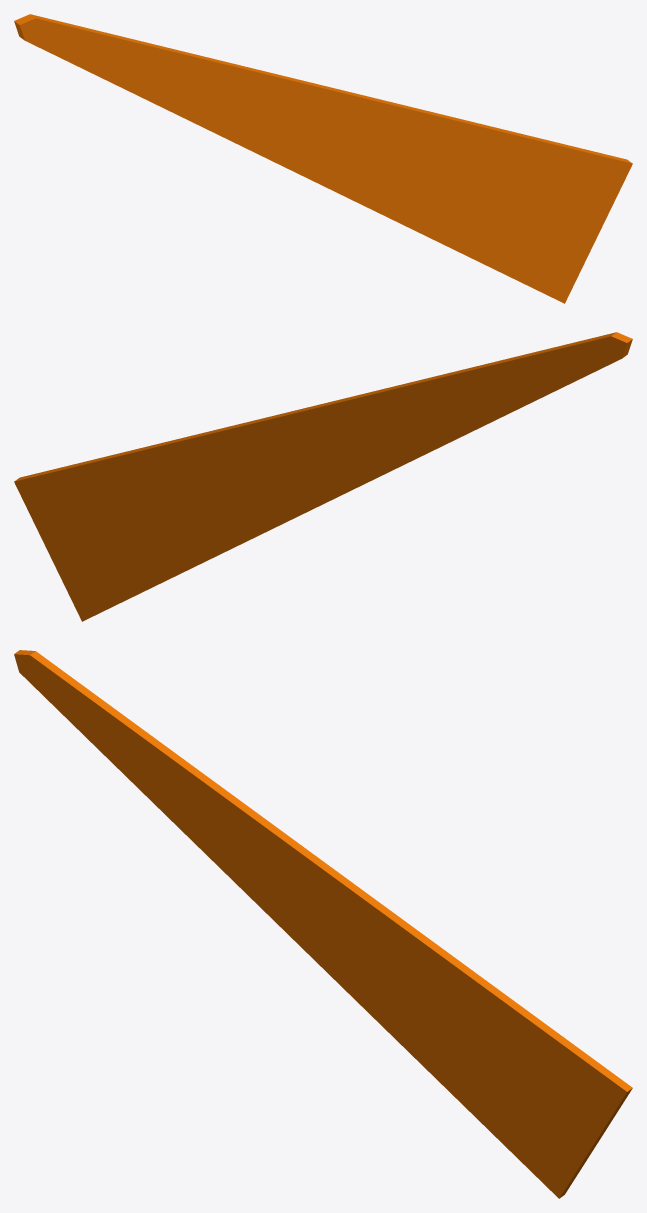
File: anzeigerpfeil.obj
The picture shows the model from 3 angles, top to bottom: view 1: azimuth 30°, elevation 25°; view 2: azimuth 150°, elevation 25°; view 3: azimuth 330°, elevation 25°; orthographic projection.
Parts seen in each view (by area): view 1: anzeigerpfeil; view 2: anzeigerpfeil; view 3: anzeigerpfeil.
Boxes of the visible parts, box(x1,y1,x2,y2) form: anzeigerpfeil: box(14, 14, 632, 303); anzeigerpfeil: box(14, 332, 632, 621); anzeigerpfeil: box(14, 650, 632, 1198).
Size of the model in its own units: 0.1547 by 0.1 by 0.0025.
